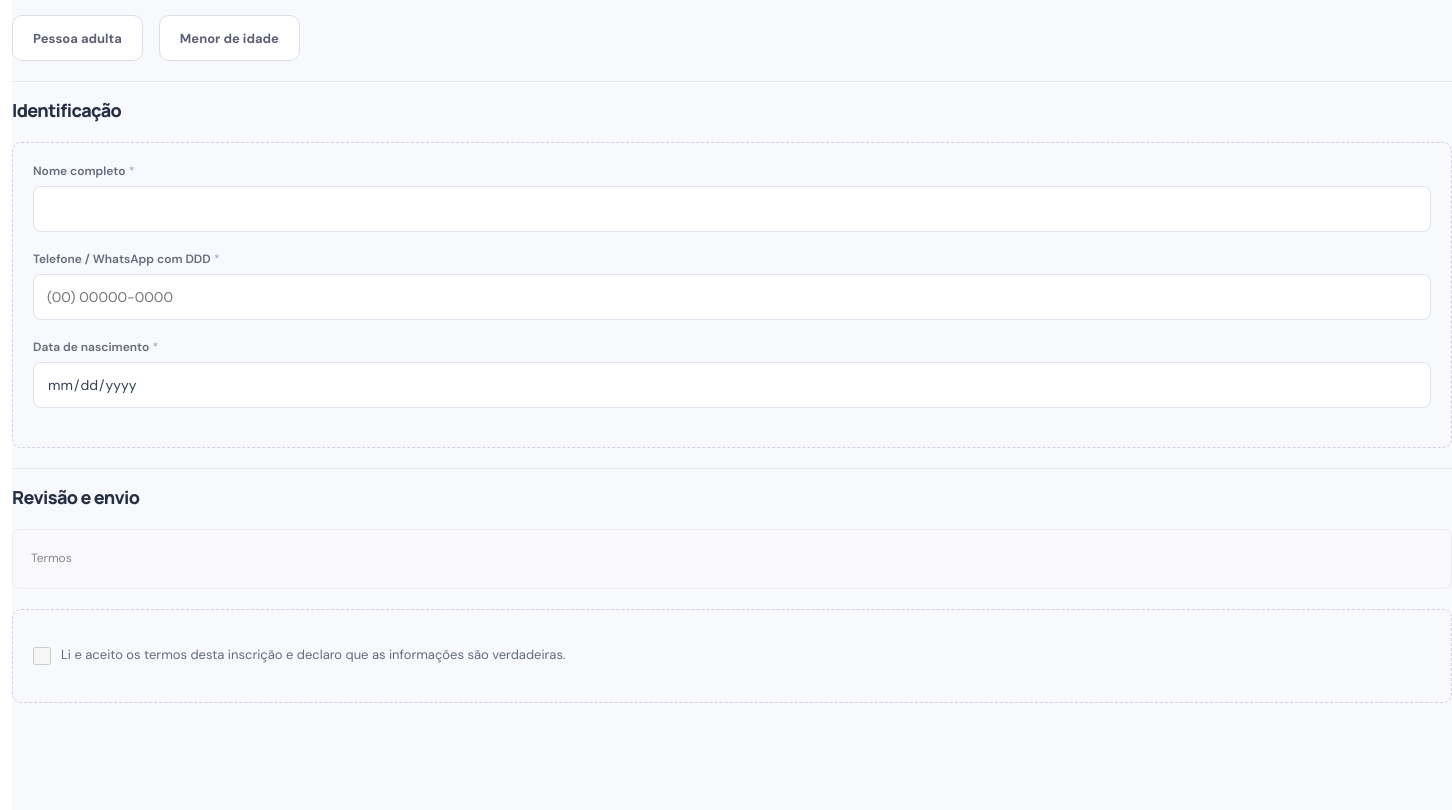
Test: Editor e prévia das fichas › pula etapas vazias na prévia de adulto e mostra o responsável para menor
The width and height of the screenshot is (1452, 810).
Expected: the heading "Saúde e emergência" is not shown
Click the button "Menor de idade". click: x=229, y=38
box: [159, 15, 300, 61]
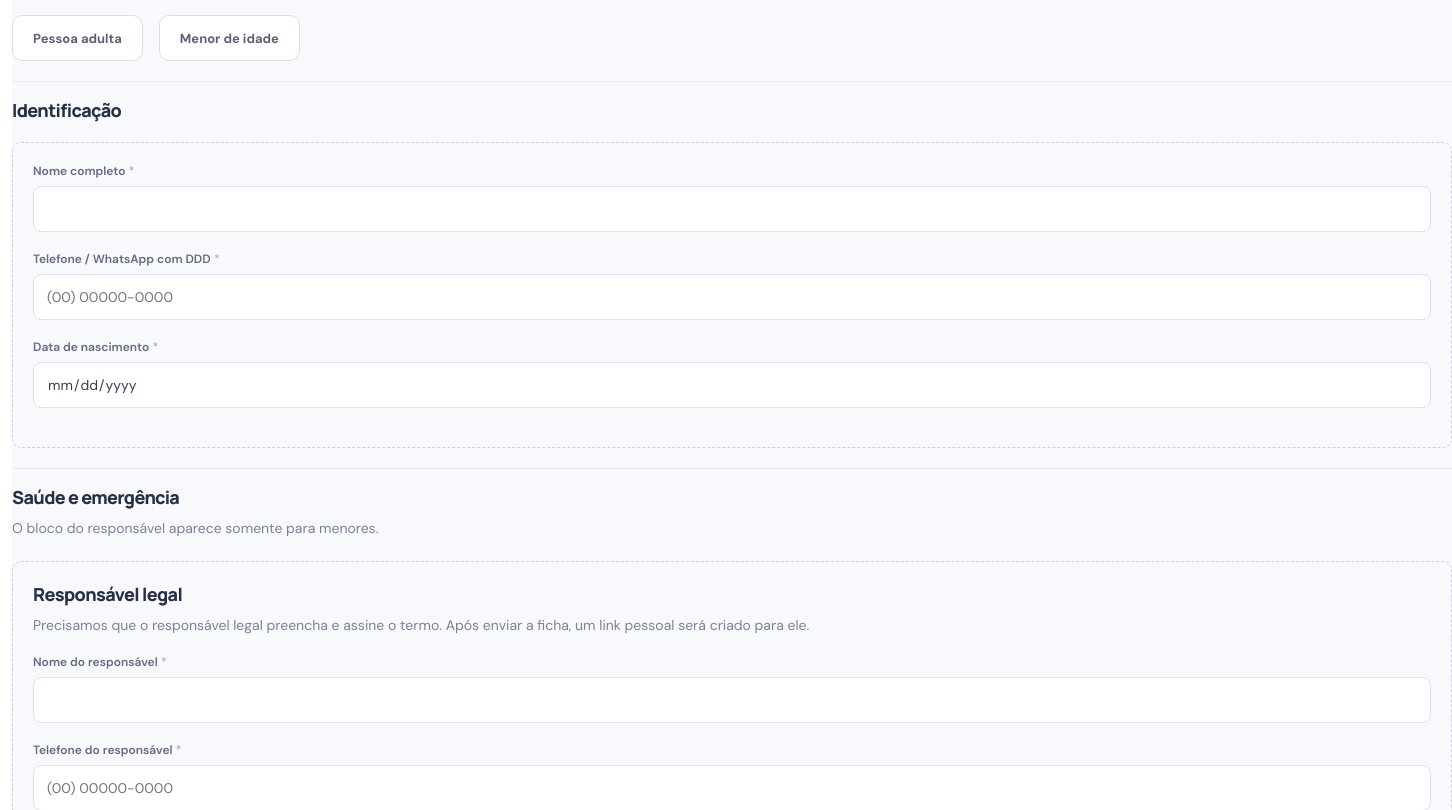
Expected: the heading "Responsável legal" is shown, [33, 582, 182, 606]
